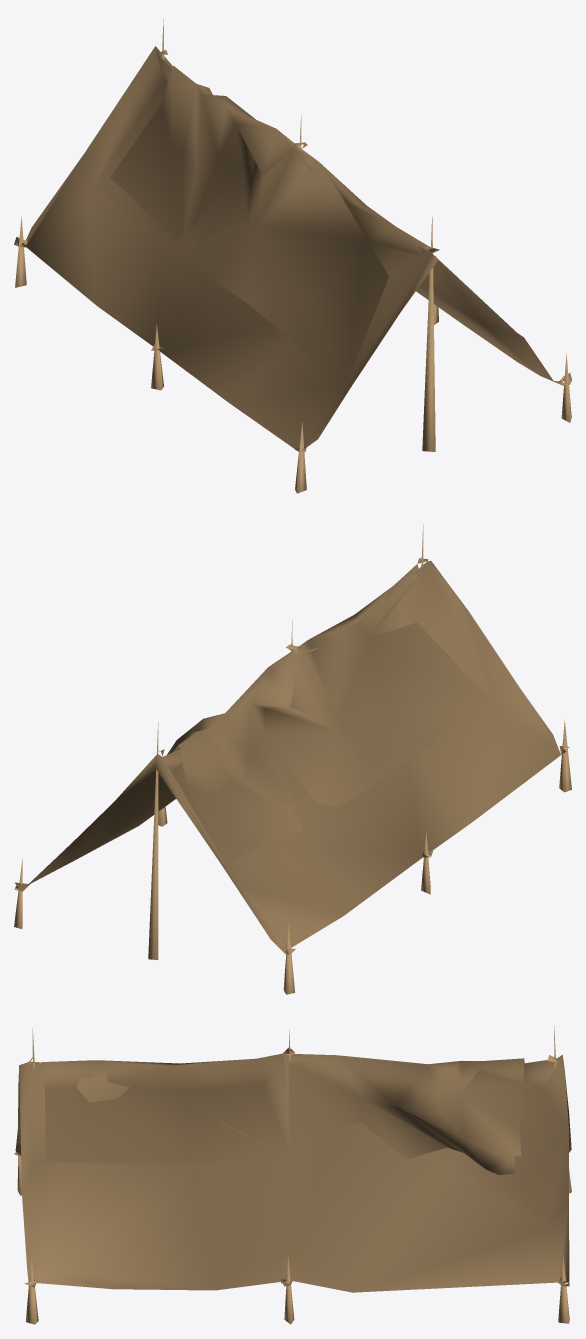
Rendered from carpa_d_lejos.glb.
3 views of the same model, one above another, from view 1: azimuth 30°, elevation 25°; view 2: azimuth 150°, elevation 25°; view 3: azimuth 270°, elevation 25° (orthographic). The views are drawn at different scales.
Visible parts, largest first — view 1: carpa_d_lejos; view 2: carpa_d_lejos; view 3: carpa_d_lejos.
Part boxes in pixels (x1,y1,x2,y2): carpa_d_lejos: [14, 18, 571, 493]; carpa_d_lejos: [14, 524, 571, 994]; carpa_d_lejos: [14, 1026, 571, 1324].
Bounding box in the file's own units: 4.17 × 3.39 × 7.27.
